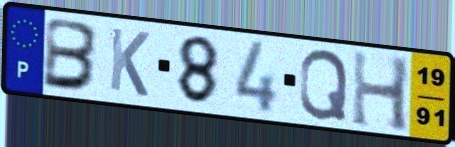4: (232, 39, 282, 117)
8: (174, 33, 223, 107)
B: (41, 15, 103, 94)
H: (349, 47, 413, 135)
K: (107, 25, 152, 100)
Q: (297, 47, 351, 122)
